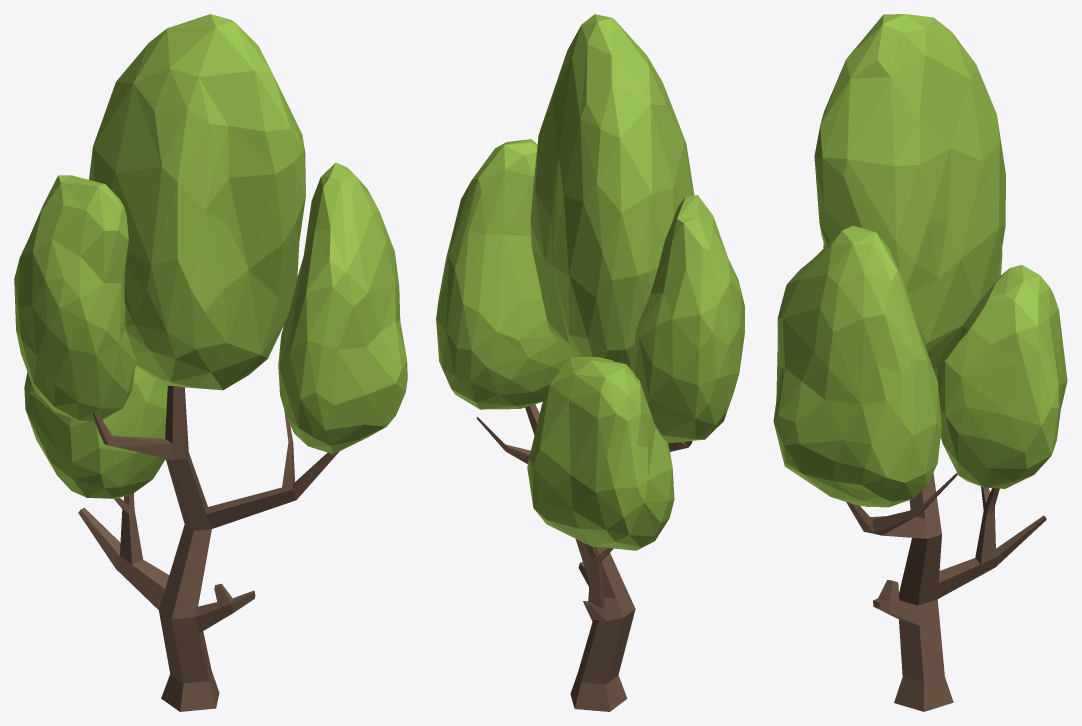
The picture shows the model from 3 angles, left to right: view 1: azimuth 30°, elevation 25°; view 2: azimuth 150°, elevation 25°; view 3: azimuth 270°, elevation 25°; orthographic projection. The views are drawn at different scales.
Visible parts, largest first — view 1: Tree1; view 2: Tree1; view 3: Tree1.
Boxes of the visible parts, <box> form: Tree1: <box>14,14,407,711</box>; Tree1: <box>436,14,744,711</box>; Tree1: <box>773,14,1067,711</box>.
Bounding box in the file's own units: 288 × 567 × 219.
